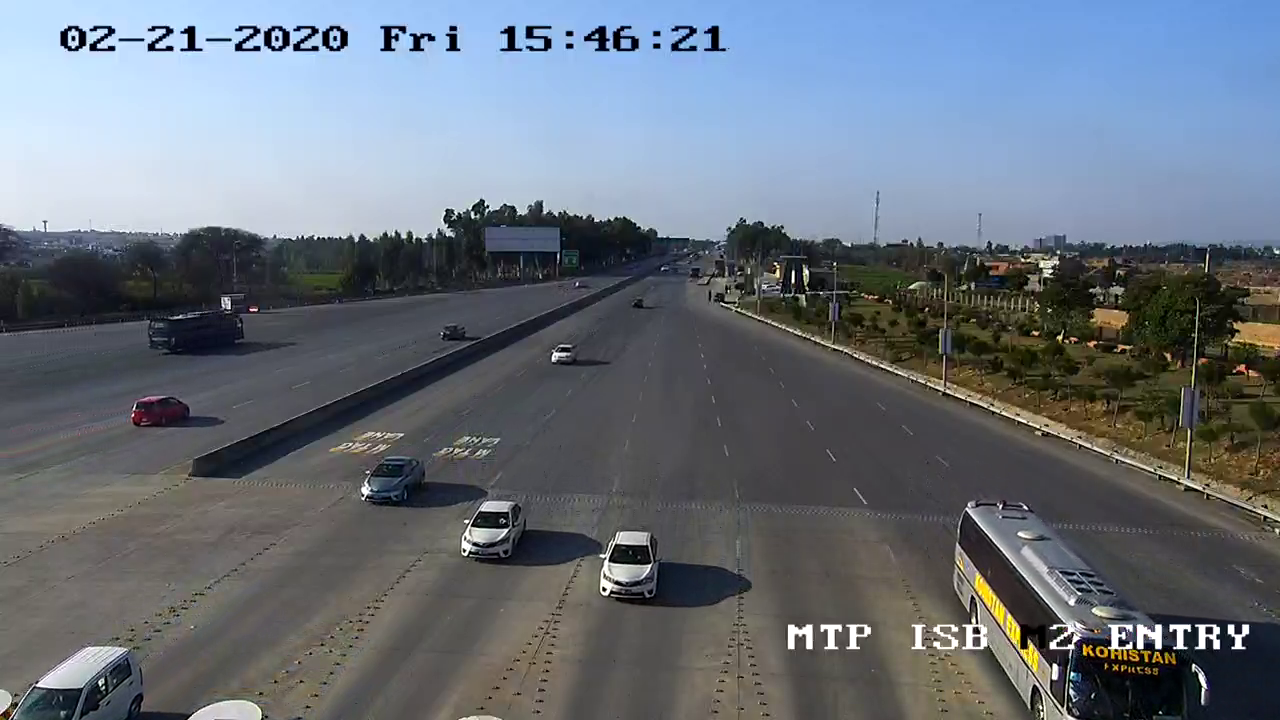f1: (591, 522, 669, 609), (452, 488, 527, 574), (349, 444, 432, 514)
